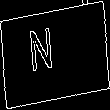N_S: (41, 27, 69, 83)
